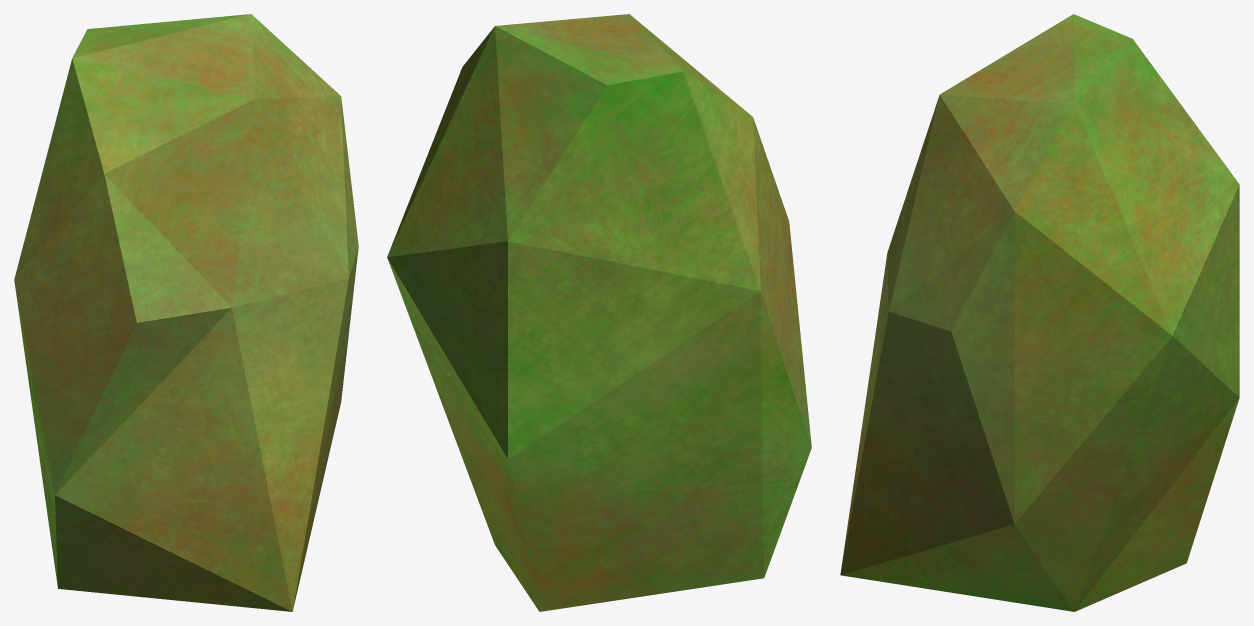
File: Haie.FBX
3 renders of one model, left to right at view 1: azimuth 30°, elevation 25°; view 2: azimuth 150°, elevation 25°; view 3: azimuth 270°, elevation 25°, orthographic. The views are drawn at different scales.
Visible parts, largest first — view 1: Haie; view 2: Haie; view 3: Haie.
Part boxes in pixels (x1=…): Haie: x1=14, y1=14, x2=358, y2=611; Haie: x1=387, y1=14, x2=811, y2=611; Haie: x1=840, y1=14, x2=1239, y2=611.
Bounding box in the file's own units: 13.57 × 20.75 × 14.78.
